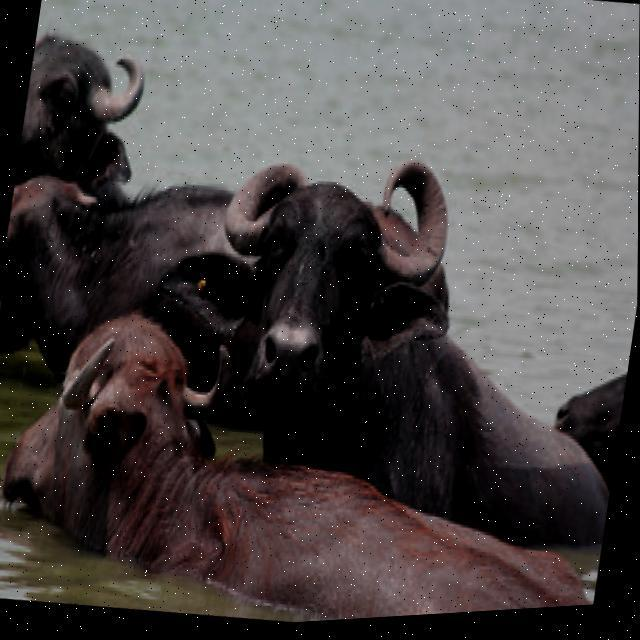Buffalo: (183, 115, 627, 545)
